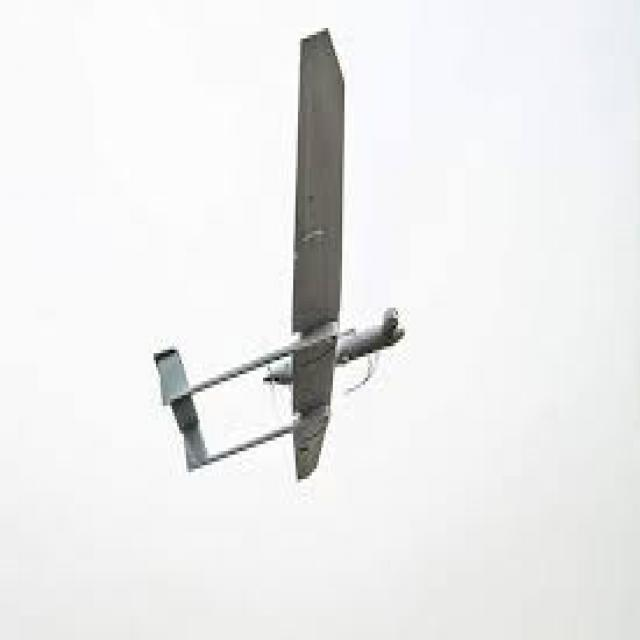UAV: (103, 52, 512, 436)
